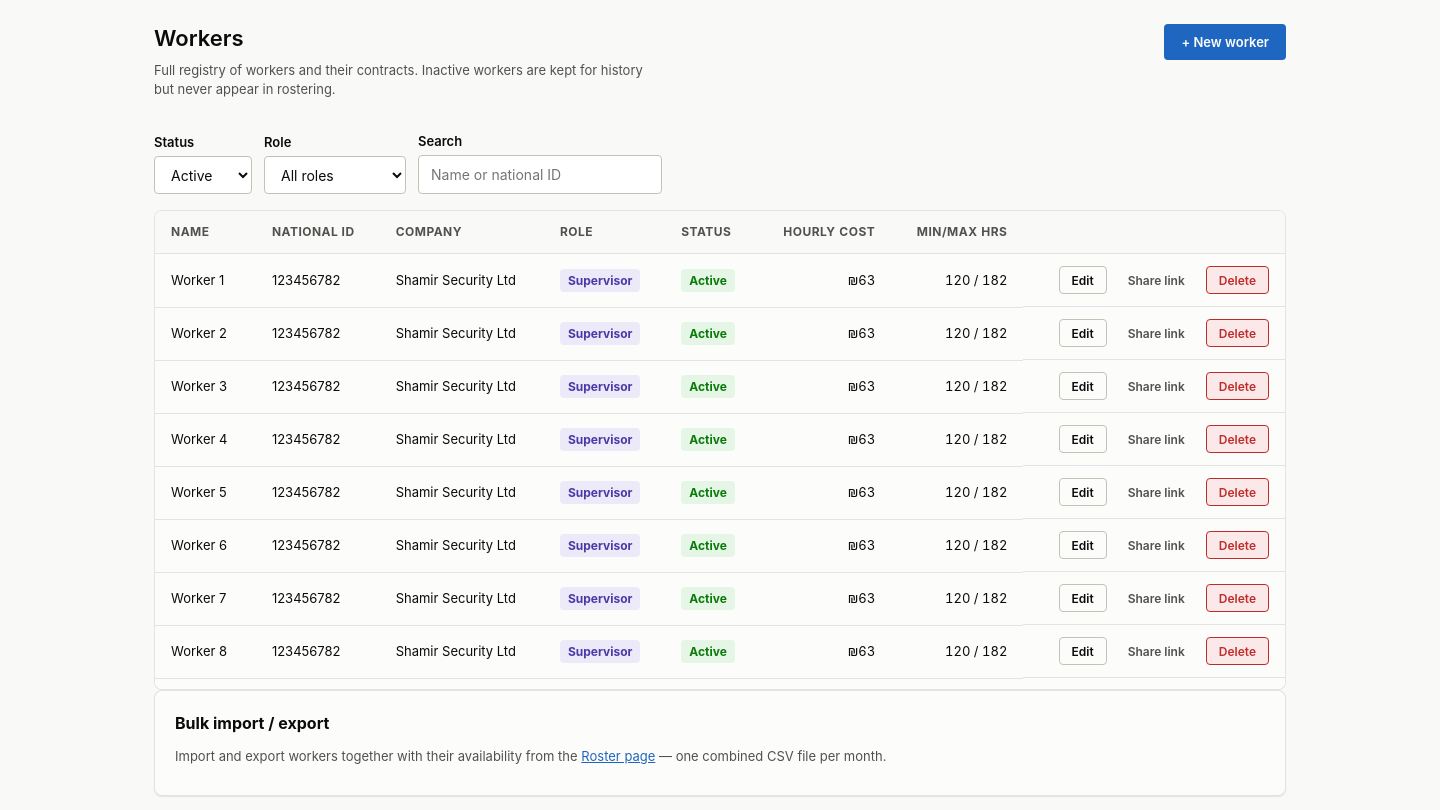
WorkersPage › mounts only a small, bounded number of rows for a large (3,000-worker) company, and row actions still work for a visible row
expect the text "Worker 1" is shown: met, box [155,254,256,307]
Click the button "Delete" in the row of "Worker 1": point(1237, 280) [1206,266,1269,294]
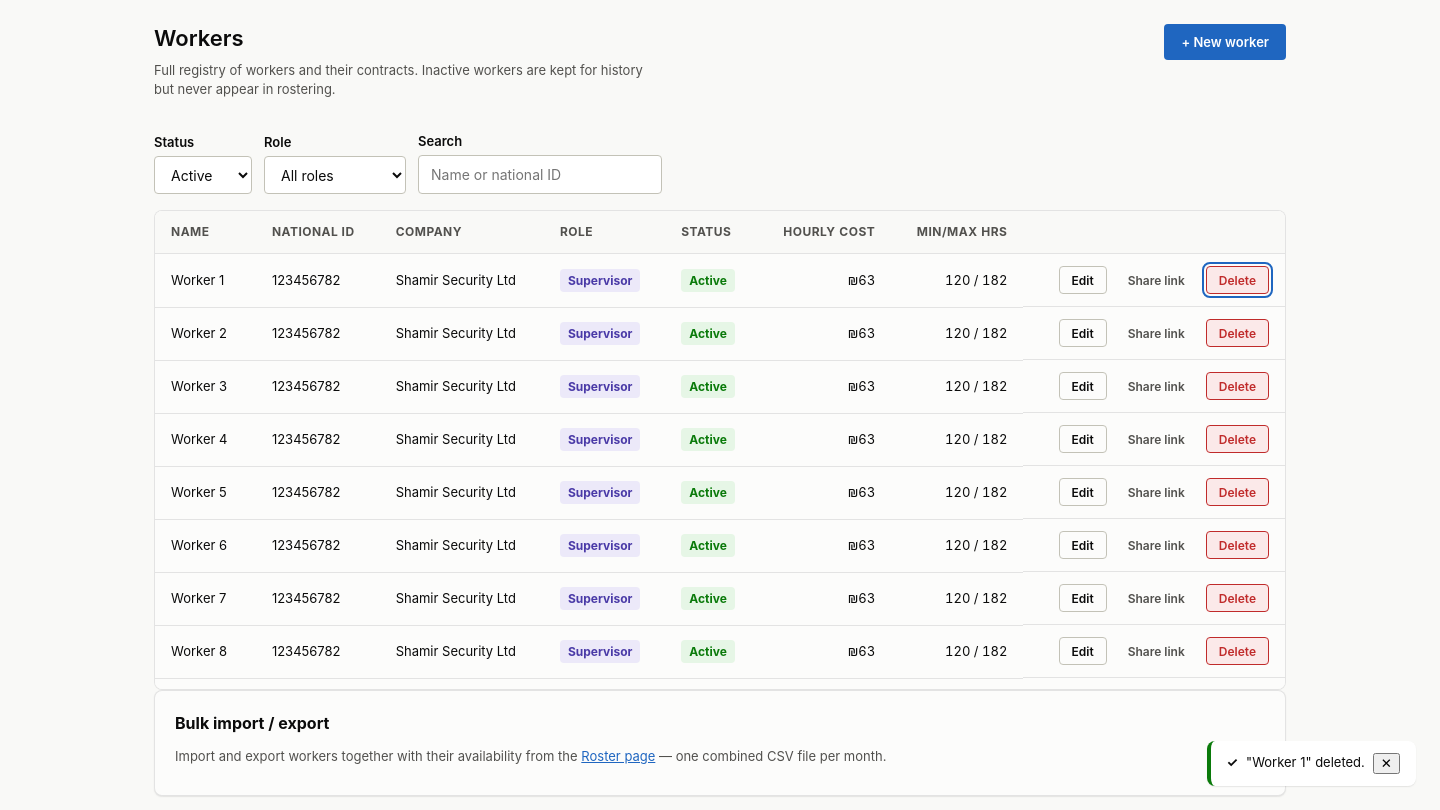
expect the text "\"Worker 1\" deleted." is shown: met, box [1246,753,1365,772]
